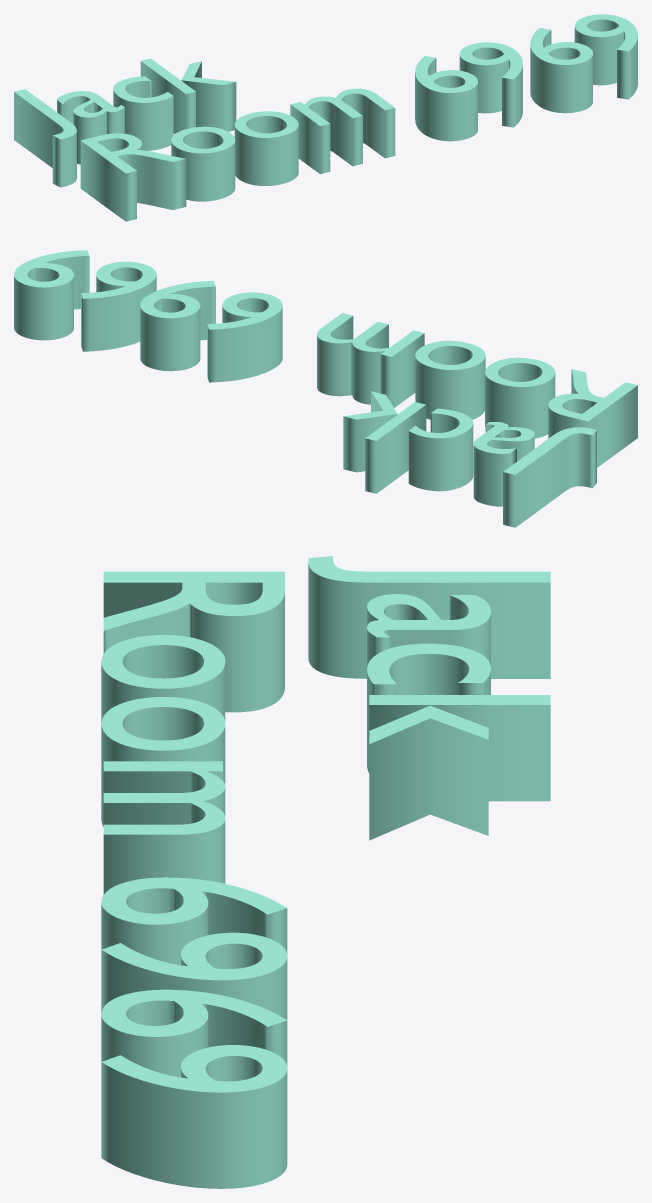
The model's file is Jack-6969.gltf.
3 views of the same model, one above another, from view 1: azimuth 30°, elevation 25°; view 2: azimuth 150°, elevation 25°; view 3: azimuth 270°, elevation 25° (orthographic). The views are drawn at different scales.
Visible parts, largest first — view 1: Text; view 2: Text; view 3: Text.
Part boxes in pixels (x1=…): Text: x1=14, y1=14, x2=637, y2=221; Text: x1=14, y1=250, x2=637, y2=527; Text: x1=101, y1=556, x2=550, y2=1188.
Bounding box in the file's own units: 4.78 × 0.4 × 1.69.
